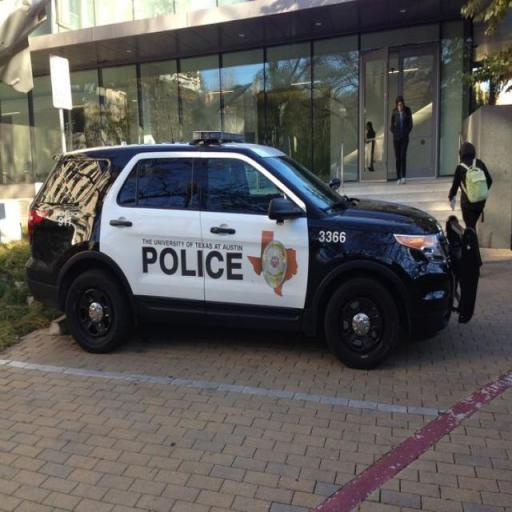Ambulance: (22, 139, 476, 370)
